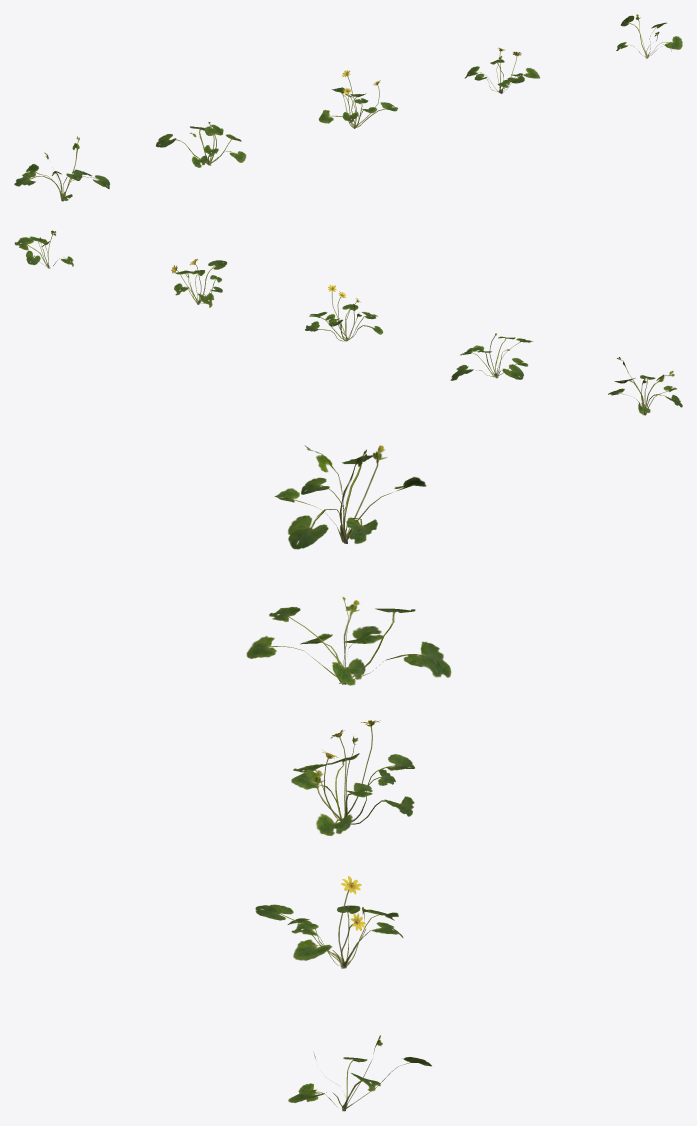
Rendered from celandine_01.glb.
3 renders of one model, top to bottom at view 1: azimuth 30°, elevation 25°; view 2: azimuth 150°, elevation 25°; view 3: azimuth 270°, elevation 25°, orthographic. The views are drawn at different scales.
Visible parts, largest first — view 1: celandine_01_a_LOD0; view 2: celandine_01_a_LOD0; view 3: celandine_01_a_LOD0.
Boxes of the visible parts, bbox=[...] form: celandine_01_a_LOD0: bbox=[14, 14, 682, 201]; celandine_01_a_LOD0: bbox=[14, 230, 682, 415]; celandine_01_a_LOD0: bbox=[246, 445, 451, 1111].
Bounding box in the file's own units: 2.24 × 0.1859 × 0.3067.
Materials: 1 (1 with a texture image).
